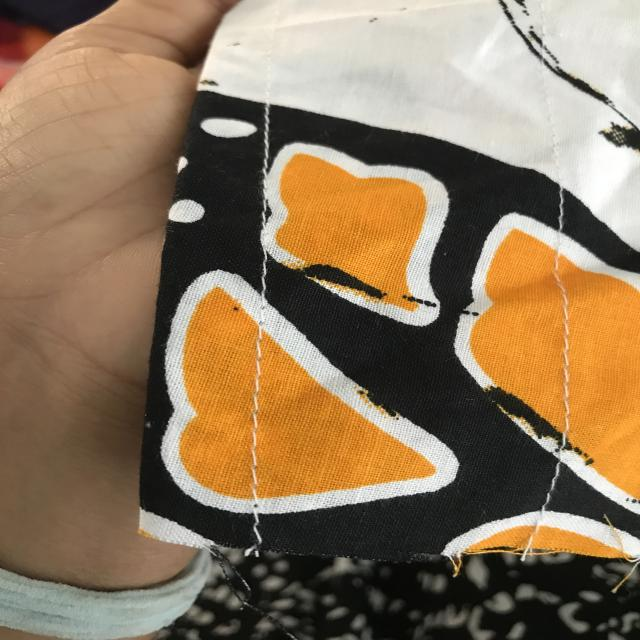good: (242, 374, 278, 474)
